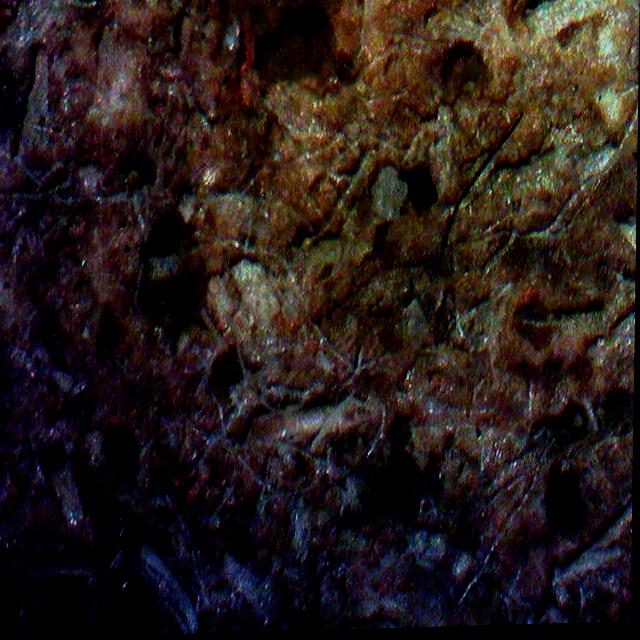microplastic: (456, 115, 526, 211)
